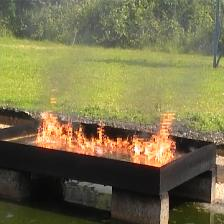fire: (35, 109, 177, 162)
